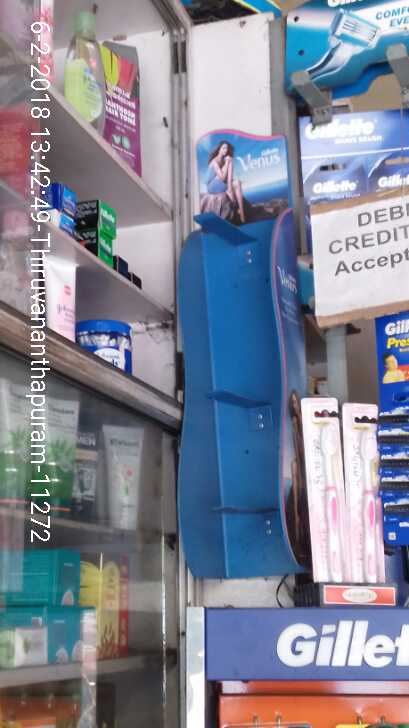reject: (155, 269, 245, 376)
